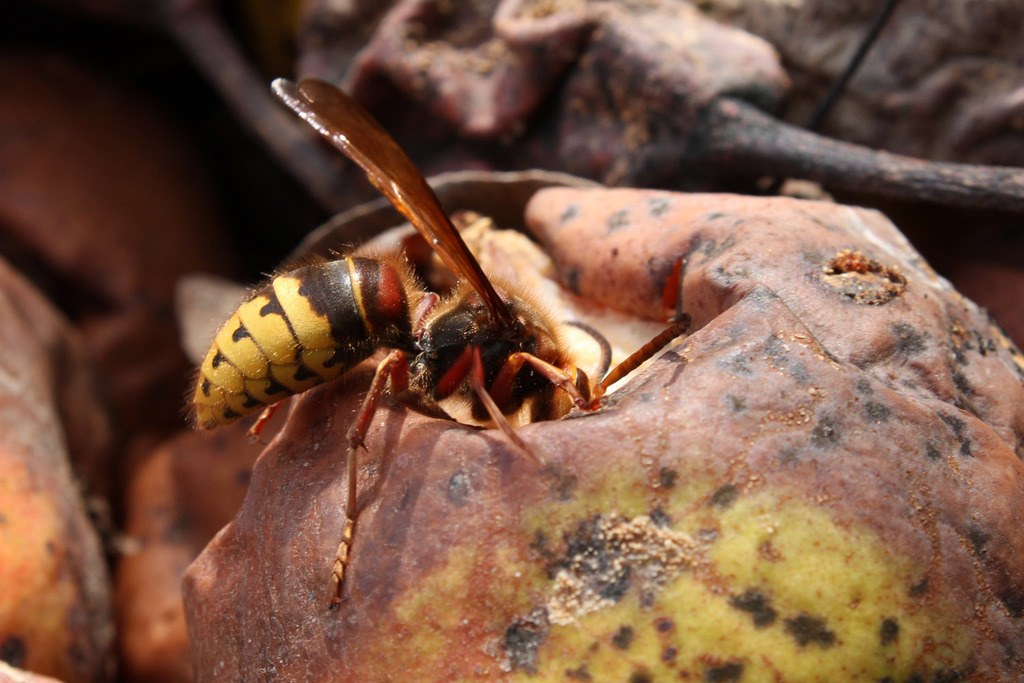bee: (199, 79, 580, 574)
